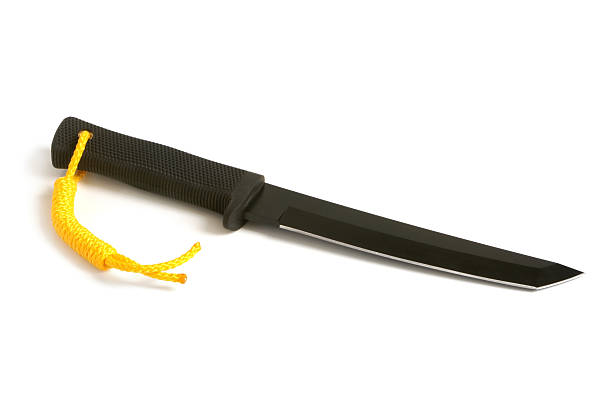knife: (48, 114, 584, 294)
